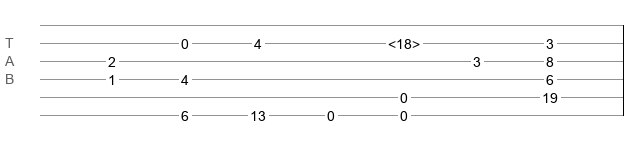0: (181, 36, 189, 46), (327, 108, 335, 118), (400, 90, 408, 100), (400, 108, 408, 118)
1: (108, 72, 116, 82)
13: (250, 108, 266, 118)
19: (542, 90, 558, 100)
2: (108, 54, 116, 64)
3: (473, 54, 481, 64), (546, 36, 554, 46)
4: (181, 72, 189, 82), (254, 36, 262, 46)
6: (181, 108, 189, 118), (546, 72, 554, 82)
8: (546, 54, 554, 64)
harmonic: (388, 36, 420, 46)
